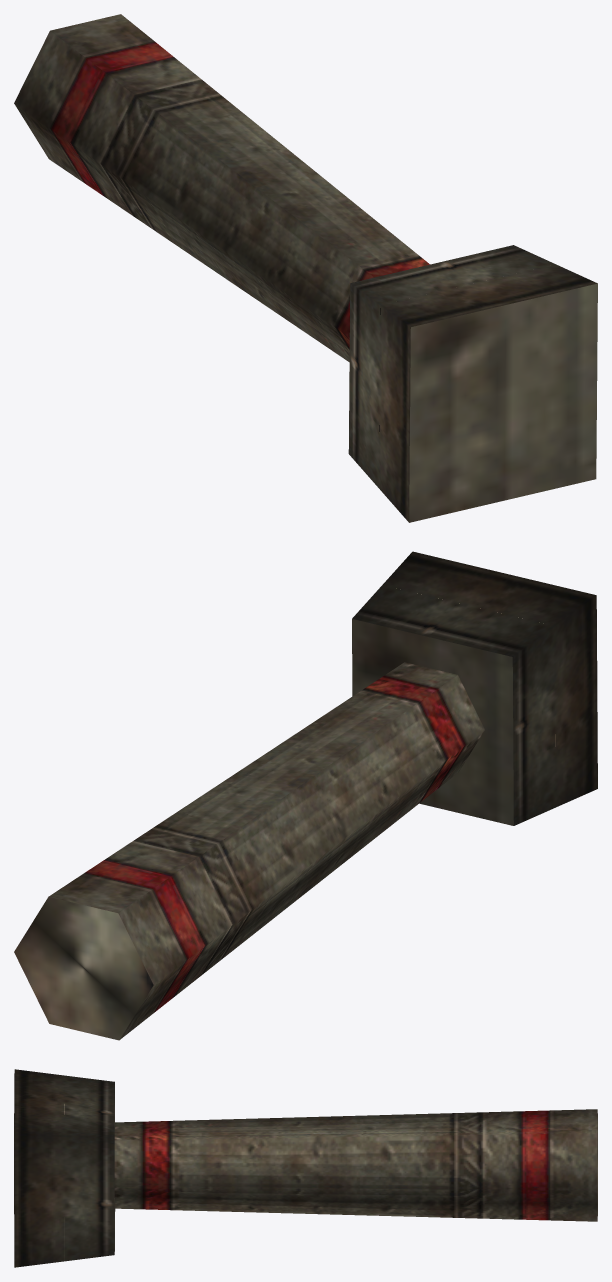
The model's file is column_06.obj.
3 renders of one model, top to bottom at view 1: azimuth 30°, elevation 25°; view 2: azimuth 150°, elevation 25°; view 3: azimuth 270°, elevation 25°, orthographic. The views are drawn at different scales.
Parts seen in each view (by area): view 1: (null); view 2: (null); view 3: (null).
Part boxes in pixels (box(x1,y1,x2,y2)): (null): box(14, 14, 597, 522); (null): box(14, 551, 597, 1040); (null): box(14, 1069, 597, 1267).
Bounding box in the file's own units: 0.6854 × 0.6854 × 2.67.
